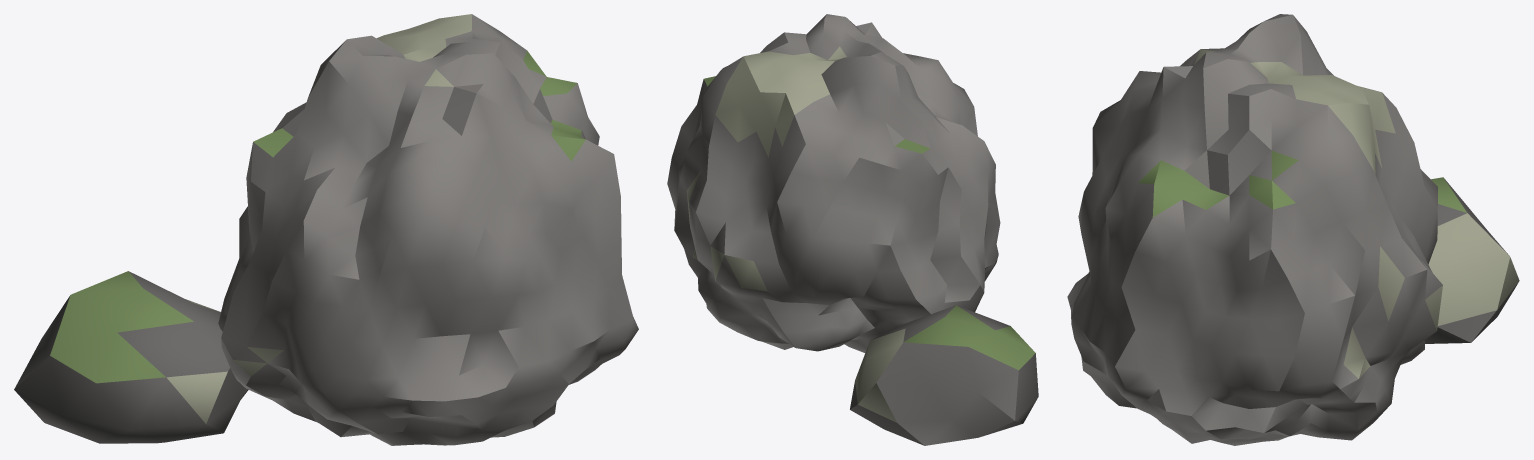
Rendered from rock_b.glb.
3 views of the same model, side by side, from view 1: azimuth 30°, elevation 25°; view 2: azimuth 150°, elevation 25°; view 3: azimuth 270°, elevation 25° (orthographic). The views are drawn at different scales.
Visible parts, largest first — view 1: Body; view 2: Body; view 3: Body.
Part boxes in pixels (x1=…): Body: x1=14, y1=14, x2=638, y2=445; Body: x1=667, y1=14, x2=1038, y2=445; Body: x1=1067, y1=14, x2=1519, y2=445.
Size of the model in its own units: 1.34 by 0.9582 by 1.04.
